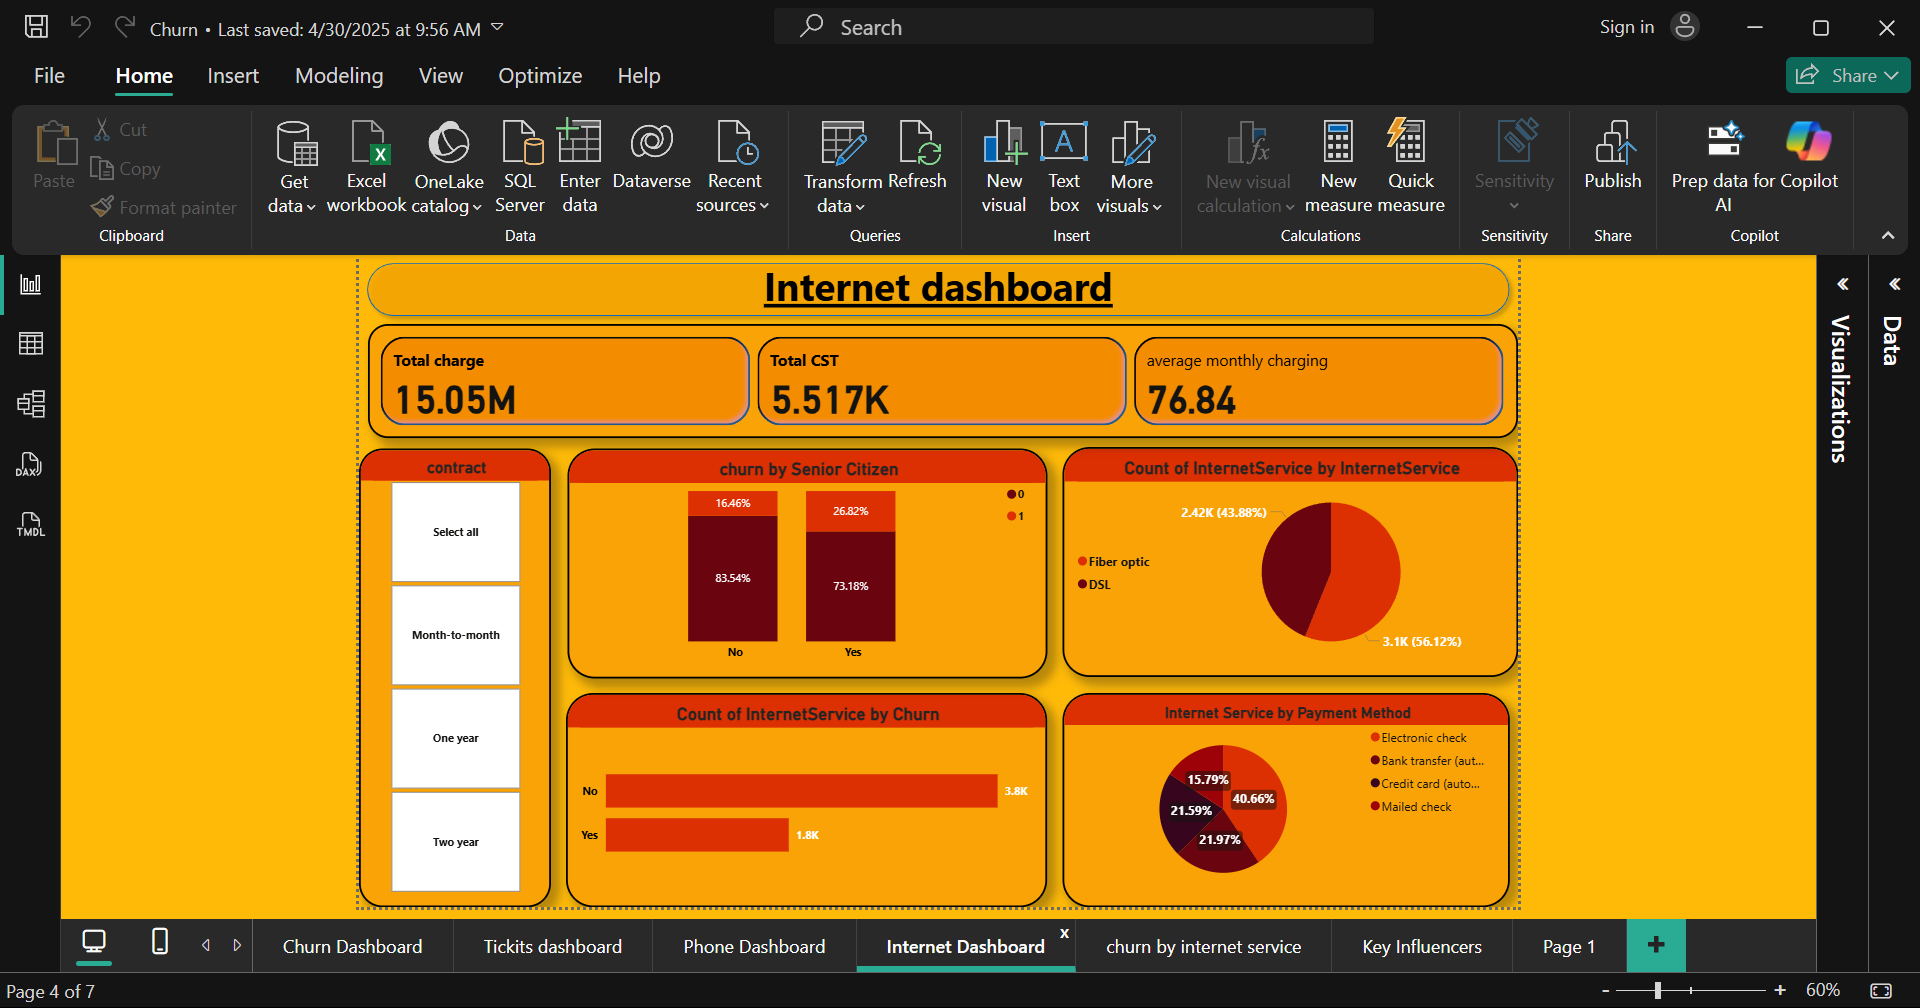

The dashboard page shown, as its layout file describes it:
{"tool":"powerbi","page":{"name":"Internet Dashboard","canvas":[1280,720],"ordinal":3},"visuals":[{"type":"pieChart","fields":{"Category":["01 Churn-Dataset.InternetService"],"Y":["CountNonNull(01 Churn-Dataset.InternetService)"]},"box":[776.1,211.9,503.4,254],"z":0},{"type":"group","id":"g1","title":"Group 1","box":[0,0,1279.5,76.4],"z":1000},{"type":"cardVisual","fields":{"Data":["Sum(01 Churn-Dataset.TotalCharges)","Count(01 Churn-Dataset.customerID)","Avg(01 Churn-Dataset.MonthlyCharges)"]},"box":[9.4,76.4,1270.1,126.2],"z":2000},{"type":"shape","box":[0,0,1279.5,76.4],"z":3000,"group":"g1"},{"type":"pieChart","title":"Internet Service by Payment Method","fields":{"Category":["01 Churn-Dataset.PaymentMethod"],"Y":["CountNonNull(01 Churn-Dataset.InternetService)"]},"box":[776.1,483.1,494,236.9],"z":3000},{"type":"clusteredBarChart","fields":{"Category":["01 Churn-Dataset.Churn"],"Y":["CountNonNull(01 Churn-Dataset.InternetService)"]},"box":[229.1,483.1,531.4,236.9],"z":4000},{"type":"textbox","box":[0,0,1279.5,76.4],"z":5000,"group":"g1"},{"type":"hundredPercentStackedColumnChart","title":"churn by Senior Citizen","fields":{"Category":["01 Churn-Dataset.Churn"],"Y":["CountNonNull(01 Churn-Dataset.SeniorCitizen)"],"Series":["01 Churn-Dataset.SeniorCitizen"]},"box":[230.6,213.5,529.9,254],"z":5000},{"type":"slicer","title":"contract","fields":{"Values":["01 Churn-Dataset.Contract"]},"box":[0,213.5,211.9,506.5],"z":6000}]}

Visuals, with their boxes on the page's 1280x720 design canvas (x1, y1, x2, y2). These are canvas units, not pixel positions in the 1920x1008 screenshot, which may show the page scaled, cropped or inside an application window:
pieChart - 01 Churn-Dataset.InternetService x CountNonNull(01 Churn-Dataset.InternetService): select_region(776, 212, 1280, 466)
"Group 1" group: select_region(0, 0, 1280, 76)
cardVisual - Sum(01 Churn-Dataset.TotalCharges) x Count(01 Churn-Dataset.customerID): select_region(9, 76, 1280, 203)
shape: select_region(0, 0, 1280, 76)
"Internet Service by Payment Method" pieChart: select_region(776, 483, 1270, 720)
clusteredBarChart - 01 Churn-Dataset.Churn x CountNonNull(01 Churn-Dataset.InternetService): select_region(229, 483, 760, 720)
textbox: select_region(0, 0, 1280, 76)
"churn by Senior Citizen" hundredPercentStackedColumnChart: select_region(231, 214, 760, 468)
"contract" slicer: select_region(0, 214, 212, 720)
